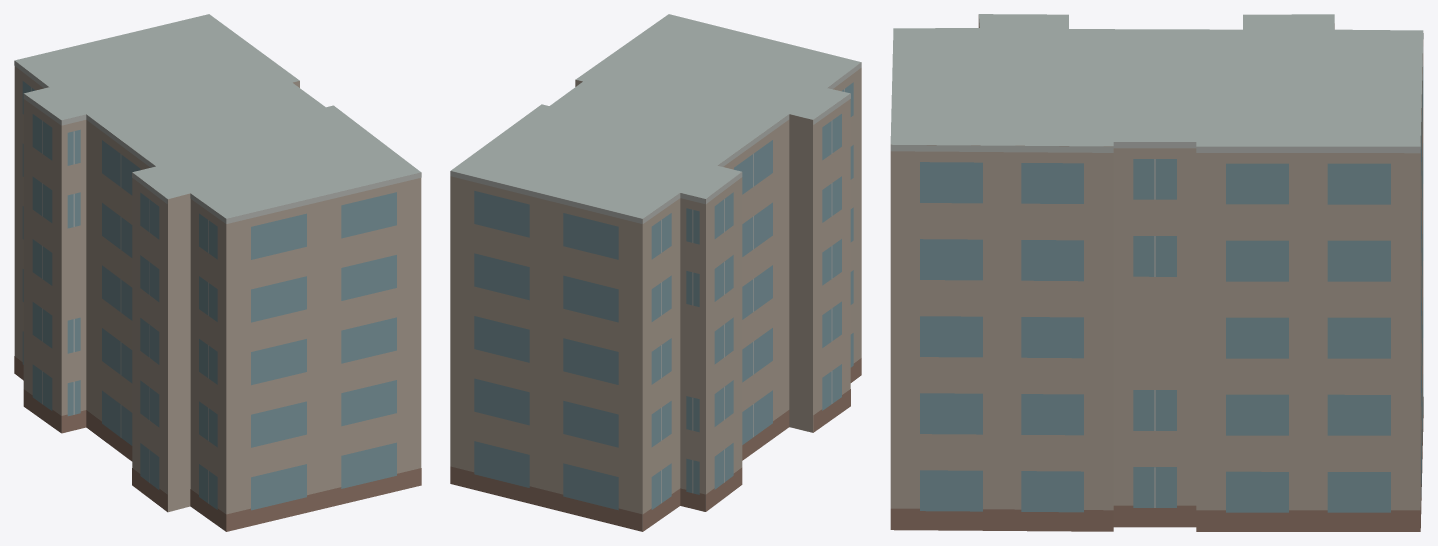
The model's file is survey-upis-32875484.glb.
The picture shows the model from 3 angles, left to right: view 1: azimuth 30°, elevation 25°; view 2: azimuth 150°, elevation 25°; view 3: azimuth 270°, elevation 25°; orthographic projection. The views are drawn at different scales.
Visible parts, largest first — view 1: survey-upis-32875484.tmp; view 2: survey-upis-32875484.tmp; view 3: survey-upis-32875484.tmp.
Part boxes in pixels (bbox=[...]): survey-upis-32875484.tmp: bbox=[14, 14, 421, 531]; survey-upis-32875484.tmp: bbox=[450, 14, 861, 531]; survey-upis-32875484.tmp: bbox=[890, 14, 1423, 531].
Bounding box in the file's own units: 10.64 × 14.4 × 18.06.
